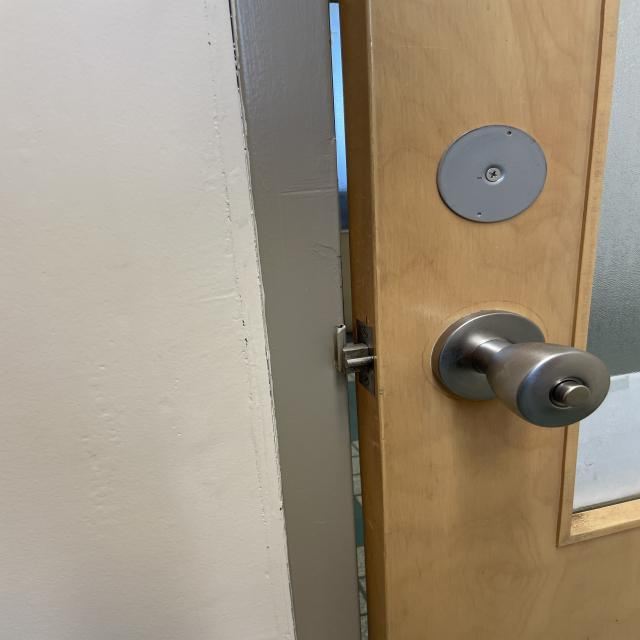door-knob: (432, 310, 610, 428)
